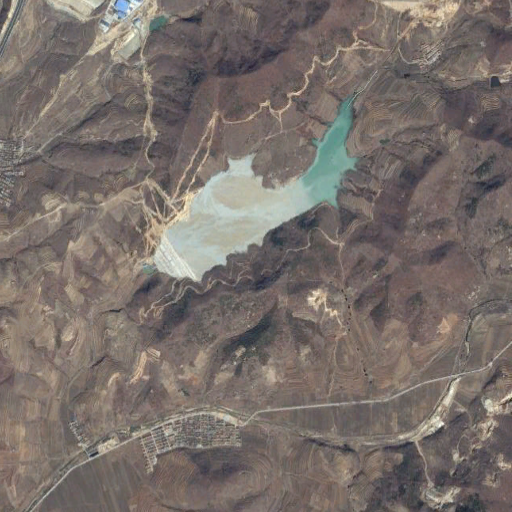tp: (151, 92, 371, 284)
